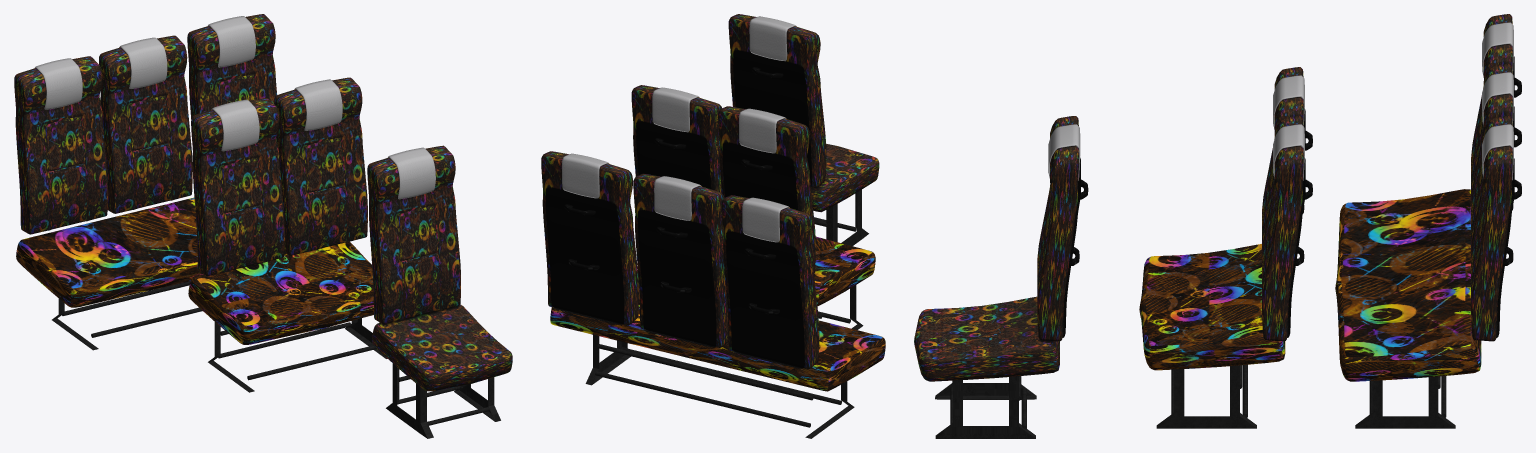
File: seat passnger.glb
3 renders of one model, left to right at view 1: azimuth 30°, elevation 25°; view 2: azimuth 150°, elevation 25°; view 3: azimuth 270°, elevation 25°, orthographic. The views are drawn at different scales.
Parts seen in each view (by area): view 1: length seat, small seat, seat .004, seat .005, seat .000, seat .003, seat .001, seat base, seat .002, seat holder, small seat base, head rest.003 (+6 smaller); view 2: seat .005, seat .002, seat .003, length seat, seat .000, seat .004, seat .001, small seat base.001, small seat, seat base, head rest, head rest.005 (+9 smaller); view 3: length seat, small seat, seat base, seat .002, seat .001, seat .000, seat holder, small seat base, small seat base.001, seat .003, seat .005, seat .004 (+6 smaller).
Boxes of the visible parts, bbox=[...] form: length seat: bbox=[16, 197, 286, 307]; small seat: bbox=[188, 241, 373, 344]; seat .004: bbox=[191, 97, 284, 275]; seat .005: bbox=[14, 56, 107, 234]; seat .000: bbox=[367, 145, 460, 323]; seat .003: bbox=[99, 35, 192, 213]; seat .001: bbox=[274, 77, 367, 255]; seat base: bbox=[372, 304, 512, 391]; seat .002: bbox=[187, 14, 277, 118]; seat holder: bbox=[386, 363, 500, 438]; small seat base: bbox=[208, 318, 387, 392]; head rest.003: bbox=[211, 99, 259, 151]; seat .005: bbox=[721, 195, 819, 369]; seat .002: bbox=[541, 151, 638, 325]; seat .003: bbox=[633, 173, 728, 347]; length seat: bbox=[550, 278, 885, 391]; seat .000: bbox=[728, 14, 826, 188]; seat .004: bbox=[718, 106, 815, 272]; seat .001: bbox=[631, 85, 722, 225]; small seat base.001: bbox=[585, 334, 854, 438]; small seat: bbox=[814, 236, 875, 306]; seat base: bbox=[811, 143, 879, 212]; head rest: bbox=[749, 16, 796, 61]; head rest.005: bbox=[742, 197, 789, 242]; length seat: bbox=[1335, 189, 1481, 381]; small seat: bbox=[1139, 244, 1285, 370]; seat base: bbox=[914, 296, 1059, 381]; seat .002: bbox=[1471, 116, 1512, 341]; seat .001: bbox=[1262, 116, 1303, 341]; seat .000: bbox=[1037, 116, 1078, 341]; seat holder: bbox=[935, 376, 1036, 438]; small seat base: bbox=[1156, 364, 1256, 428]; small seat base.001: bbox=[1355, 376, 1455, 428]; seat .003: bbox=[1471, 64, 1512, 258]; seat .005: bbox=[1471, 14, 1512, 206]; seat .004: bbox=[1262, 67, 1303, 257].
Size of the model in its own units: 11.33 by 9.52 by 18.42.
Materials: 10 (10 with a texture image).
